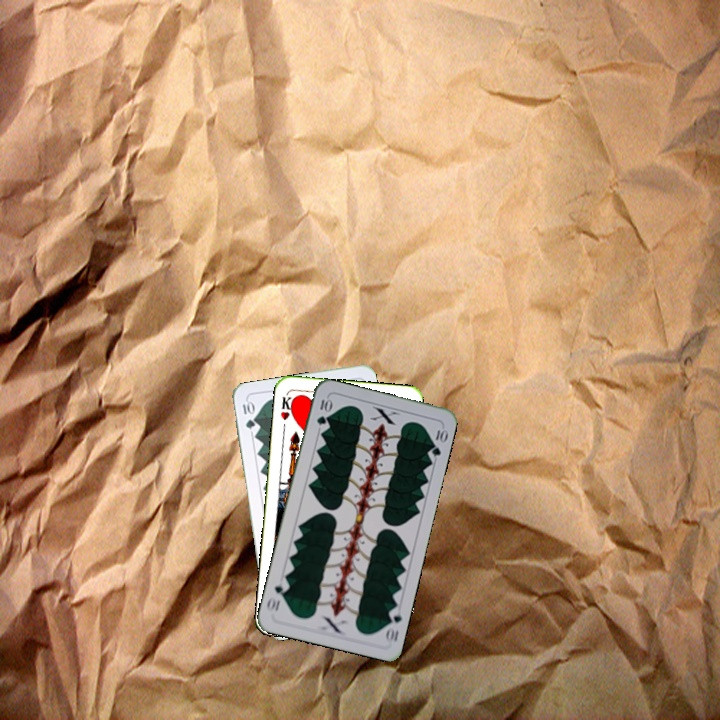G10: (382, 604, 404, 646), (313, 394, 333, 428), (239, 397, 257, 431)
HK: (276, 390, 297, 422)
